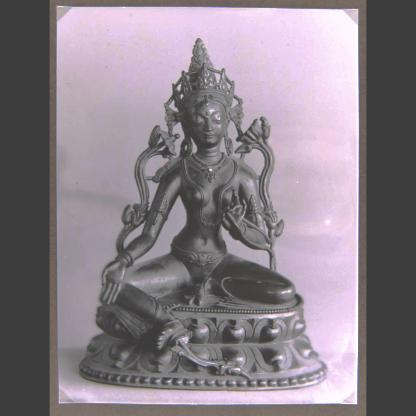buddha-sitting: (102, 33, 310, 379)
